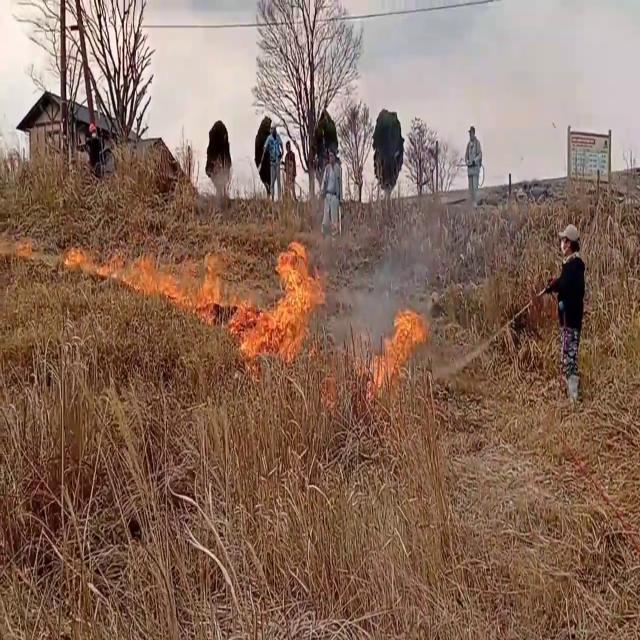Fire: (242, 238, 326, 366), (128, 242, 228, 314), (358, 294, 430, 392), (63, 236, 128, 288)
